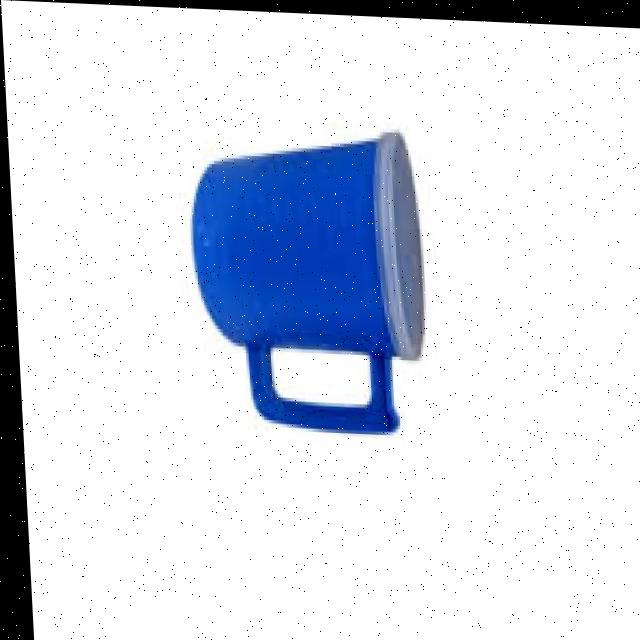cup: (166, 84, 472, 370)
